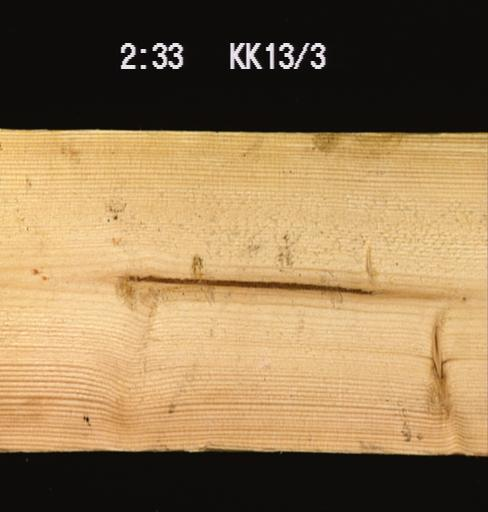small_knot: (453, 288, 474, 307)
